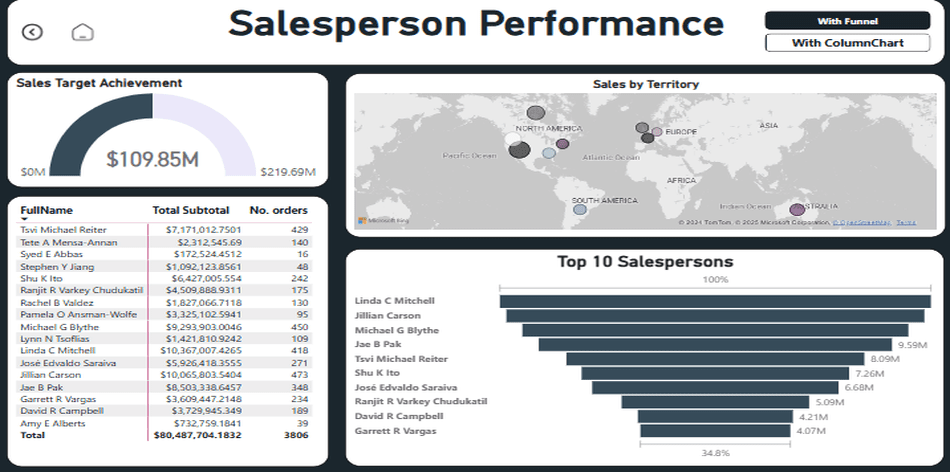

Layout of this report page (visuals, bound fields, positions):
{"tool":"powerbi","page":{"name":"Salesperson Performance","canvas":[1200,750],"ordinal":2},"visuals":[{"type":"textbox","title":"Salesperson Performance","box":[10.5,0,1179,105],"z":0},{"type":"clusteredColumnChart","title":"Top 10 Salespersons","fields":{"Category":["Sales Person.FullName"],"Y":["Measurres.Total Subtotal"]},"box":[434.5,388.7,754.6,347.6],"z":1000},{"type":"pivotTable","fields":{"Rows":["Sales Person.FullName"],"Values":["Measurres.Total Subtotal","Measurres.No. orders"]},"box":[10.7,309.5,405.5,426.8],"z":2000},{"type":"gauge","title":"Sales Target Achievement","fields":{"Y":["Measurres.Total Subtotal"]},"box":[10.5,115.5,405,181.5],"z":3000},{"type":"map","title":"Sales by Territory","fields":{"Category":["Territory.Territory"],"Size":["Measurres.Total Subtotal"]},"box":[434.5,115.9,754.6,259.1],"z":4000},{"type":"actionButton","box":[21,31.5,40.5,40.5],"z":5000},{"type":"bookmarkNavigator","box":[961.5,18,210,67.5],"z":7000},{"type":"actionButton","box":[85.5,31.5,40.5,40.5],"z":8000}]}

Visuals, with their boxes on the page's 1200x750 design canvas (x1, y1, x2, y2). These are canvas units, not pixel positions in the 950x472 screenshot, which may show the page scaled, cropped or inside an application window:
"Salesperson Performance" textbox: Rect(10, 0, 1190, 105)
"Top 10 Salespersons" clusteredColumnChart: Rect(434, 389, 1189, 736)
pivotTable - Sales Person.FullName x Measurres.Total Subtotal: Rect(11, 310, 416, 736)
"Sales Target Achievement" gauge: Rect(10, 116, 416, 297)
"Sales by Territory" map: Rect(434, 116, 1189, 375)
actionButton: Rect(21, 32, 62, 72)
bookmarkNavigator: Rect(962, 18, 1172, 86)
actionButton: Rect(86, 32, 126, 72)
